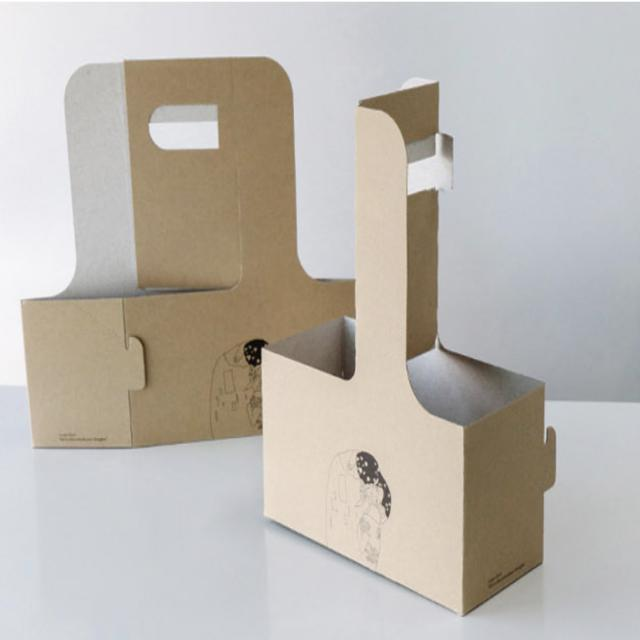biodegradable: (243, 50, 582, 622), (9, 33, 358, 473)
